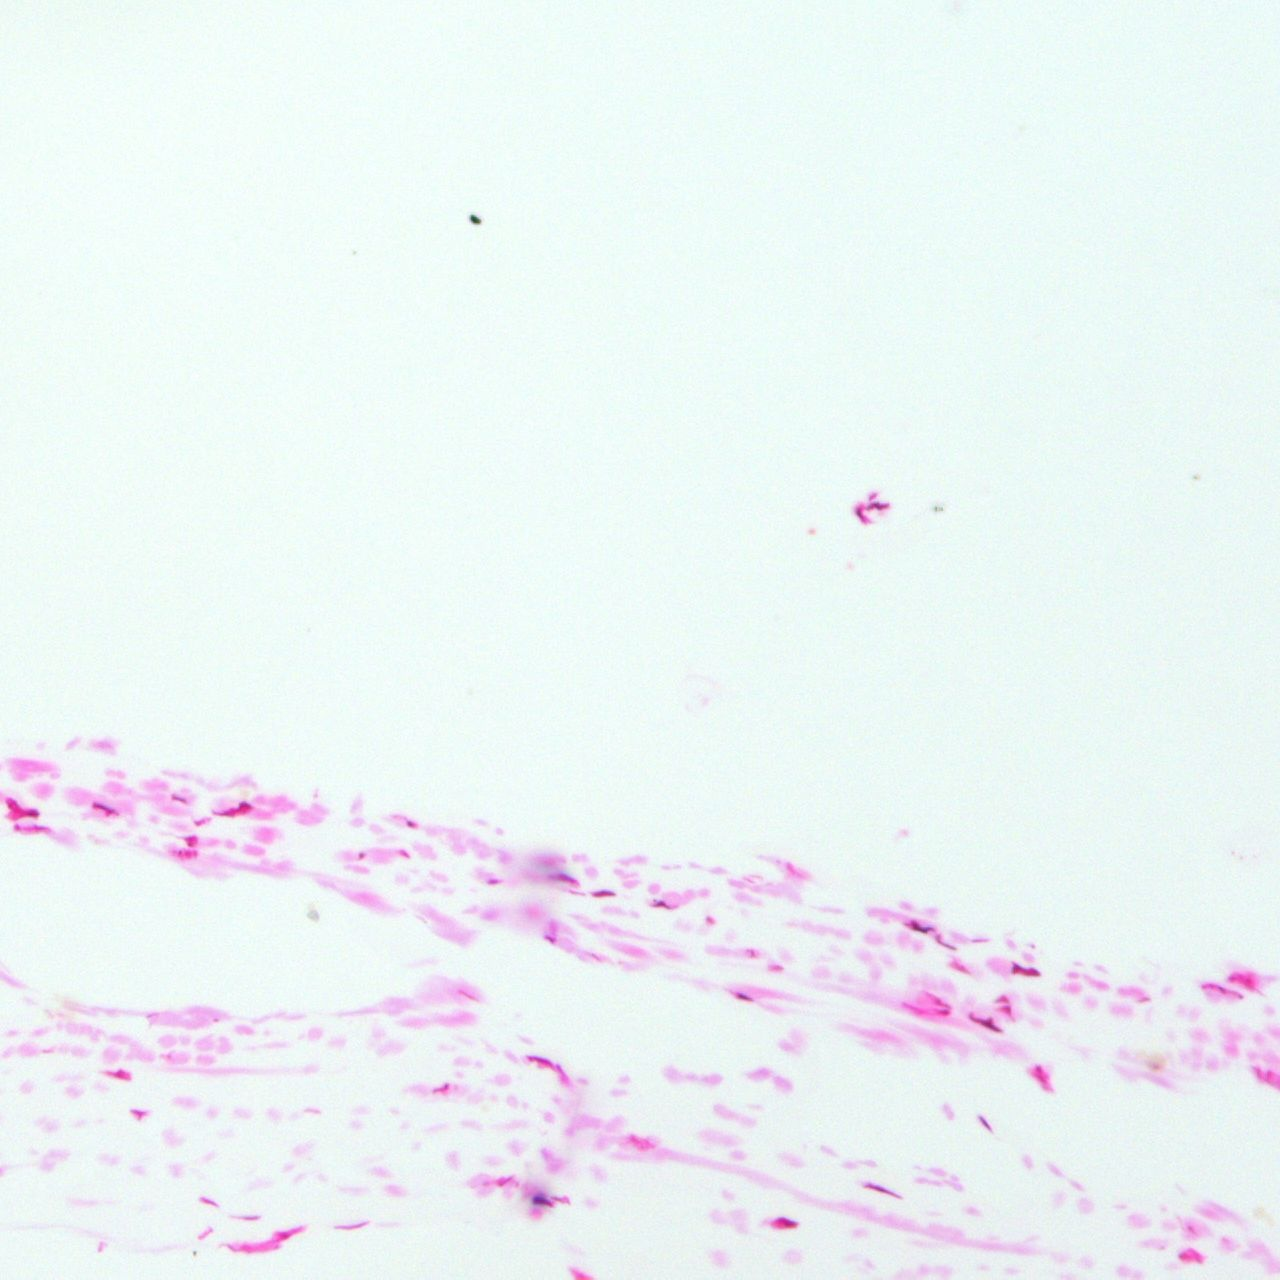dust: (468, 215, 483, 225), (930, 504, 944, 512), (1191, 474, 1201, 481), (192, 1250, 197, 1257), (1032, 944, 1036, 949), (213, 1017, 218, 1021)
nucleus-FG: (967, 1010, 1003, 1033), (862, 1182, 903, 1200), (216, 799, 251, 821), (975, 1114, 996, 1136), (91, 802, 118, 818), (921, 990, 946, 1008), (1010, 962, 1039, 978), (901, 1001, 927, 1017), (907, 917, 930, 935), (770, 1217, 799, 1231), (12, 824, 50, 835), (527, 1053, 553, 1067), (550, 872, 580, 884), (934, 937, 956, 951), (853, 505, 867, 526), (1228, 973, 1255, 983), (531, 1196, 554, 1207), (499, 1172, 516, 1187), (199, 1196, 218, 1208), (433, 1082, 451, 1095), (195, 815, 215, 826), (734, 992, 754, 1003), (129, 1108, 145, 1121), (170, 794, 190, 804), (592, 888, 617, 897), (1200, 982, 1225, 990), (865, 502, 890, 510), (4, 796, 18, 810), (998, 1005, 1012, 1019), (485, 878, 502, 887), (651, 901, 669, 910), (543, 934, 556, 946), (23, 806, 38, 817), (275, 1231, 291, 1240), (113, 1068, 125, 1078), (184, 836, 195, 847), (1035, 1073, 1047, 1083), (241, 1216, 260, 1221), (995, 995, 1010, 1002), (397, 850, 410, 858), (1178, 1252, 1187, 1262), (938, 1008, 949, 1016), (406, 821, 416, 828), (1186, 1224, 1196, 1231), (1193, 1257, 1203, 1264), (1035, 1064, 1041, 1073)
